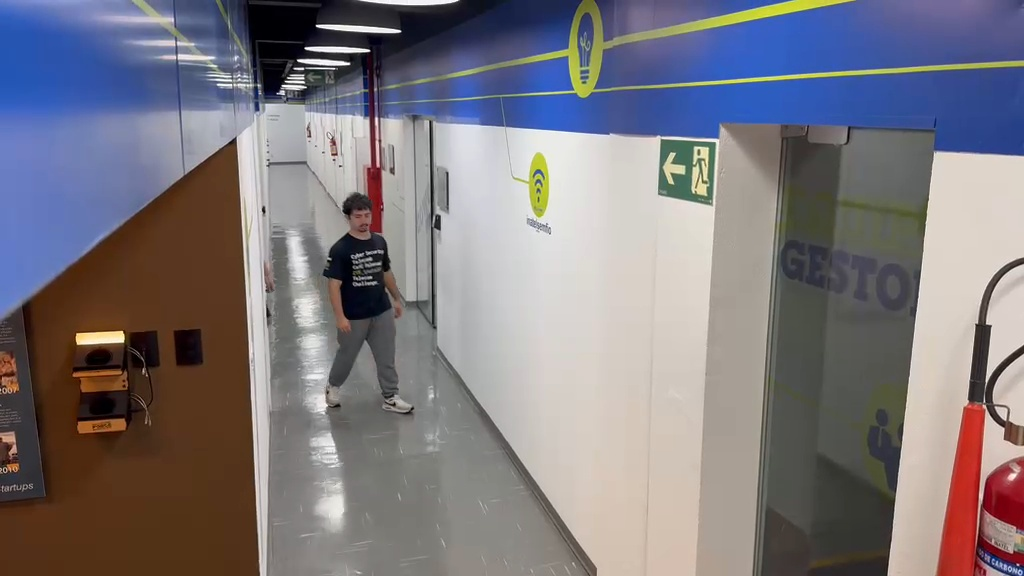person: (321, 192, 416, 414)
